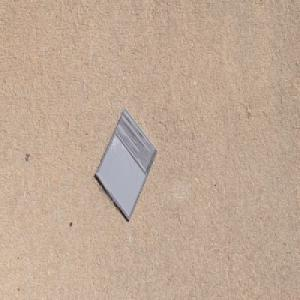PlasticPart: (95, 107, 159, 223)
